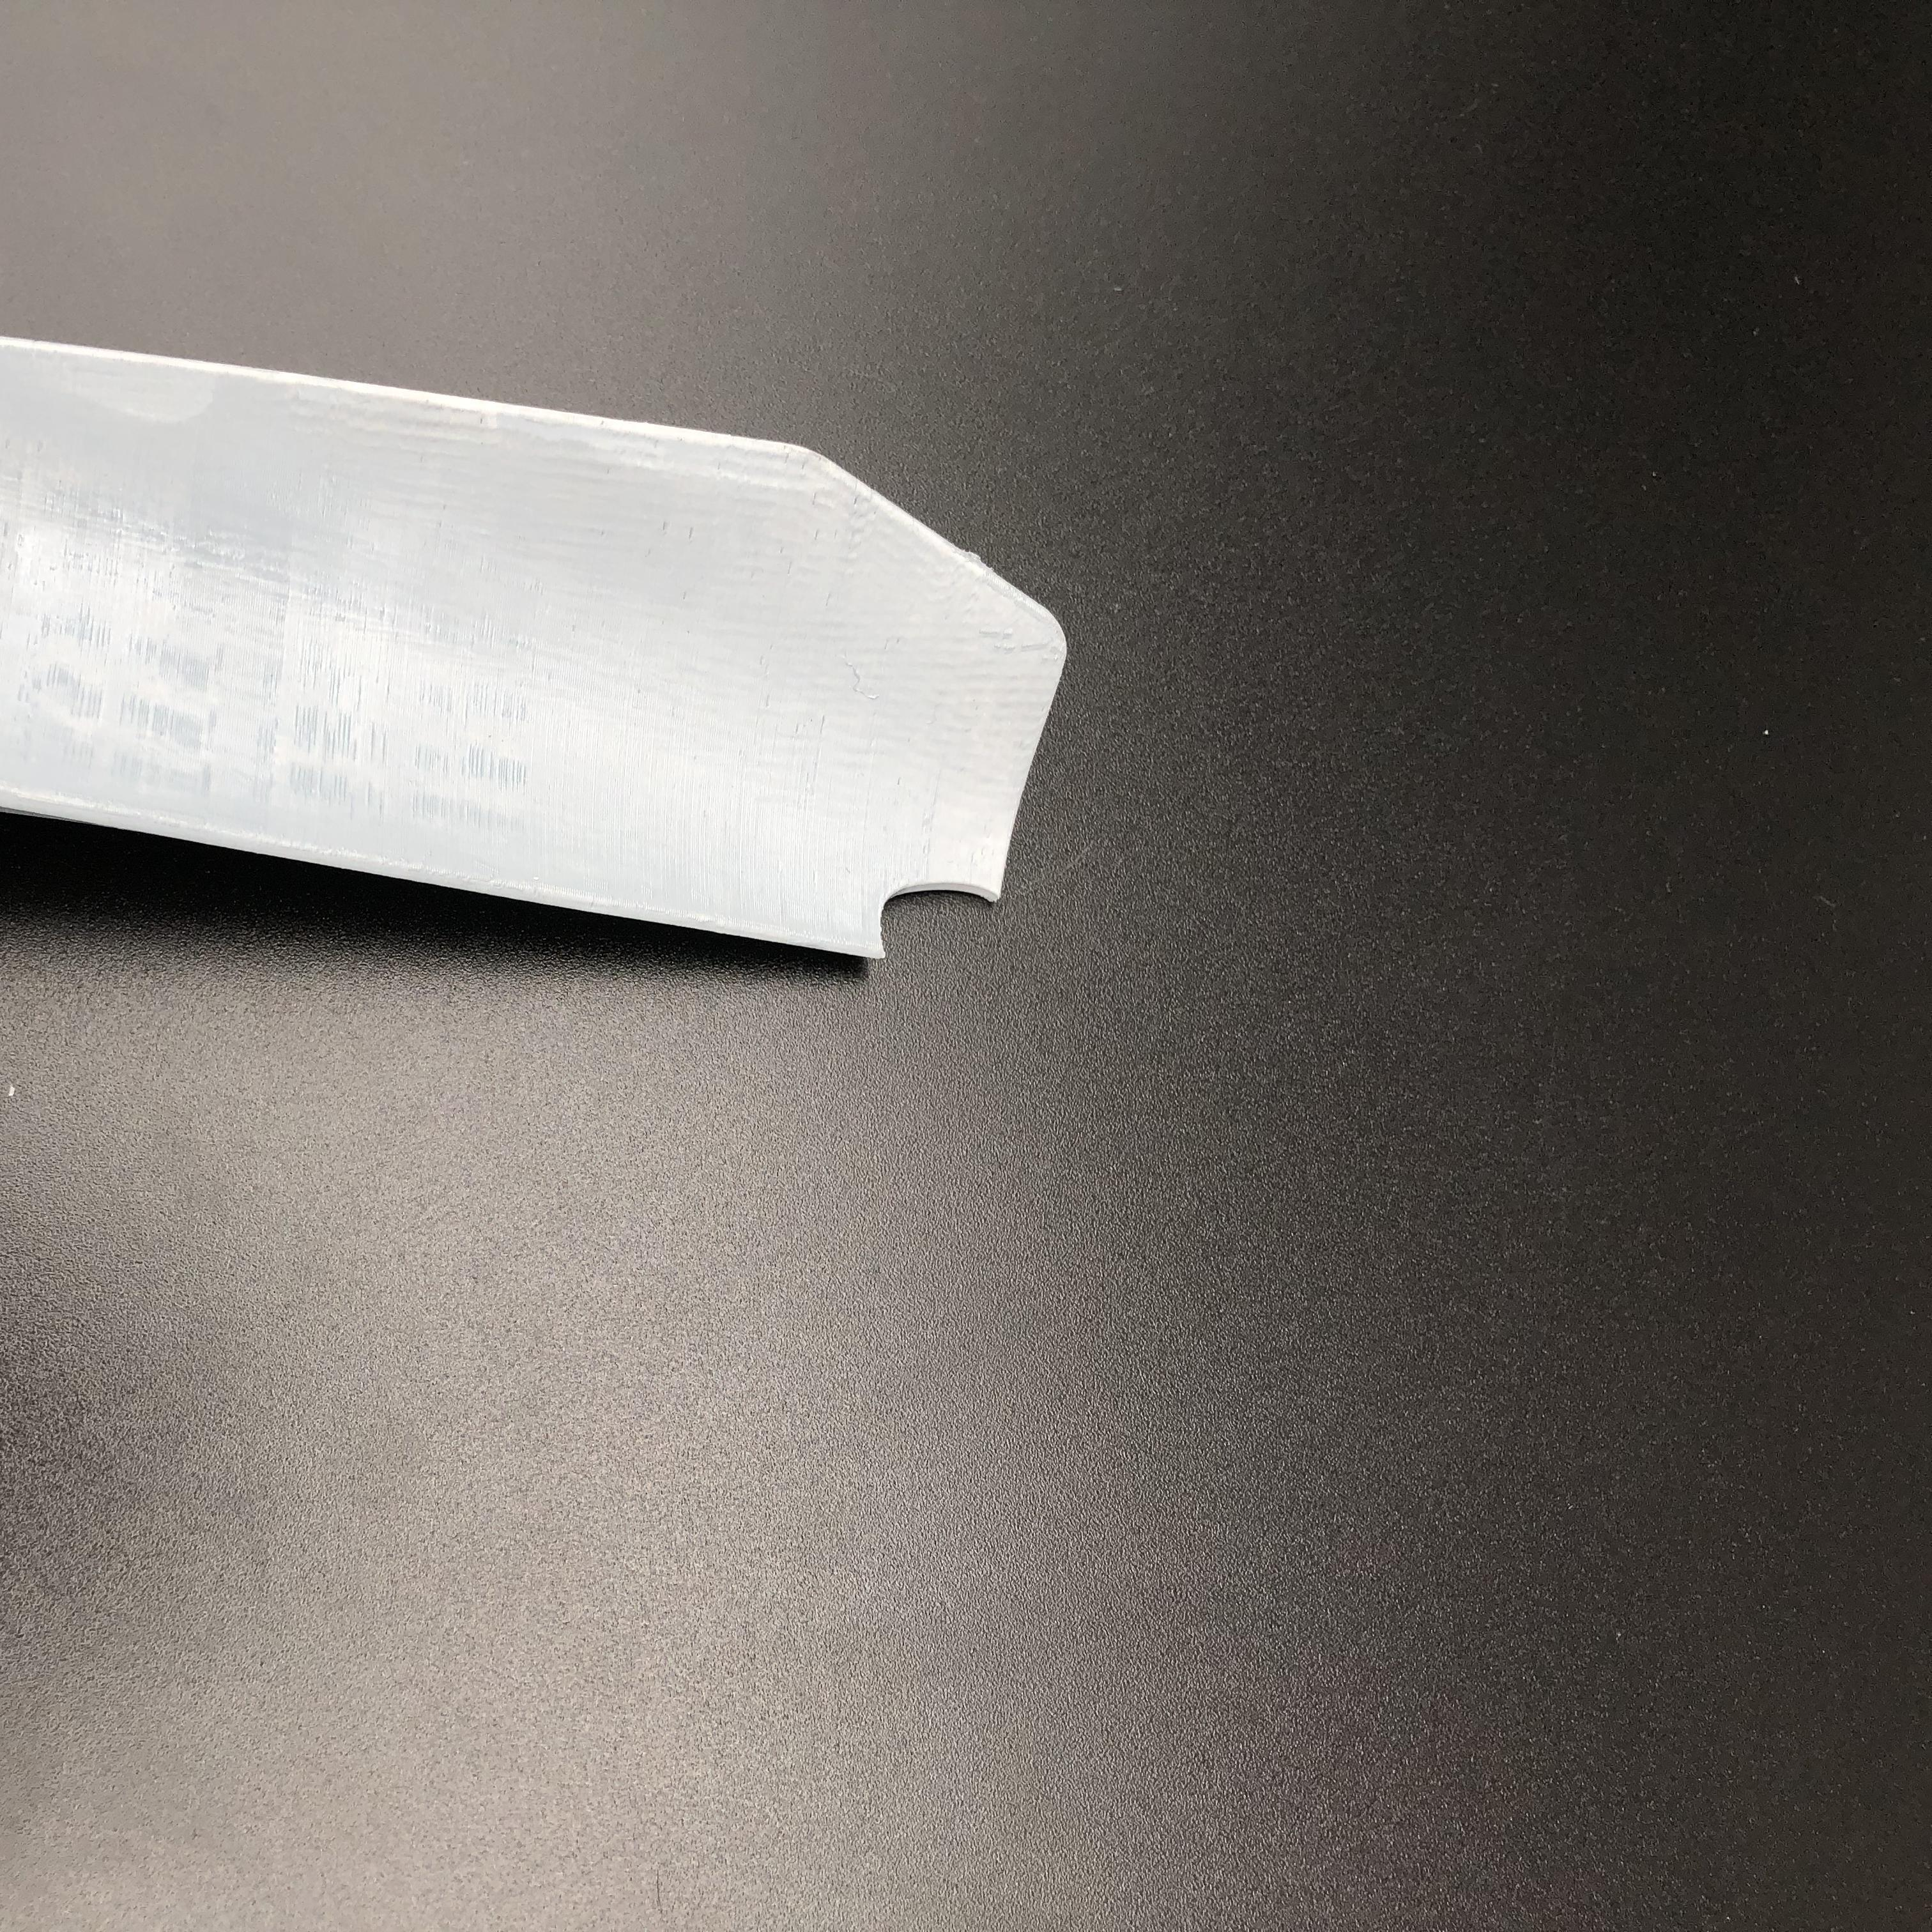fracture: (885, 862, 991, 959)
